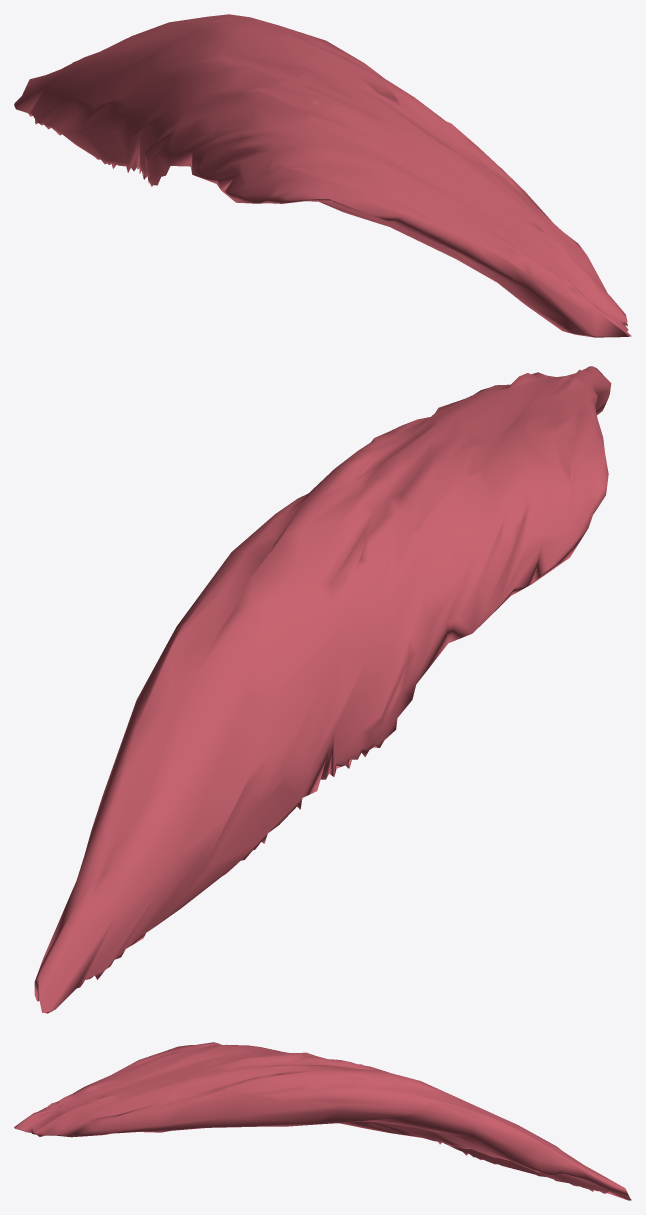
3 renders of one model, top to bottom at view 1: azimuth 30°, elevation 25°; view 2: azimuth 150°, elevation 25°; view 3: azimuth 270°, elevation 25°, orthographic. The views are drawn at different scales.
Parts seen in each view (by area): view 1: 左侧肘肌; view 2: 左侧肘肌; view 3: 左侧肘肌.
Part boxes in pixels (bbox=[...]): 左侧肘肌: bbox=[14, 14, 631, 337]; 左侧肘肌: bbox=[34, 366, 611, 1013]; 左侧肘肌: bbox=[14, 1042, 631, 1200].
Size of the model in its own units: 0.0351 by 0.0386 by 0.1542.
